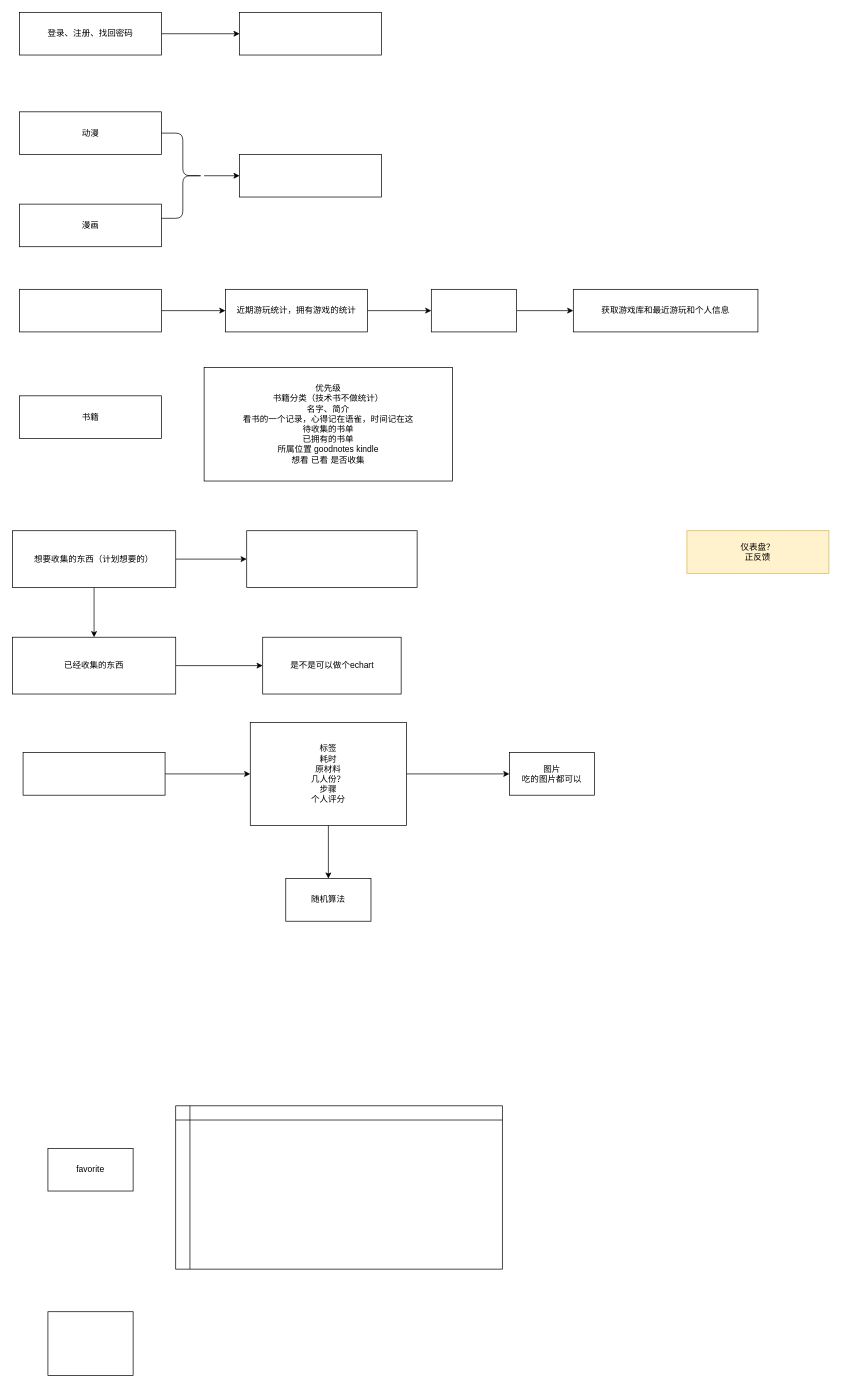
Some shapes in this 841 by 1388 pixel diagram are drawn without their labels. Here are the shapes that lost their labels. From the top down, the centre of each, then its label:
point 310,33: 对于菜单的权限控制
point 310,175: 两个类似
point 90,310: 游戏
point 474,310: steamAPI
point 331,559: 游戏、动漫、书籍、菜品、电子设备、手办、工具
point 93,773: 菜谱
point 338,1187: 类型 正在进行
point 90,1343: 正在看的 想看的 已经拥有的 想要的
